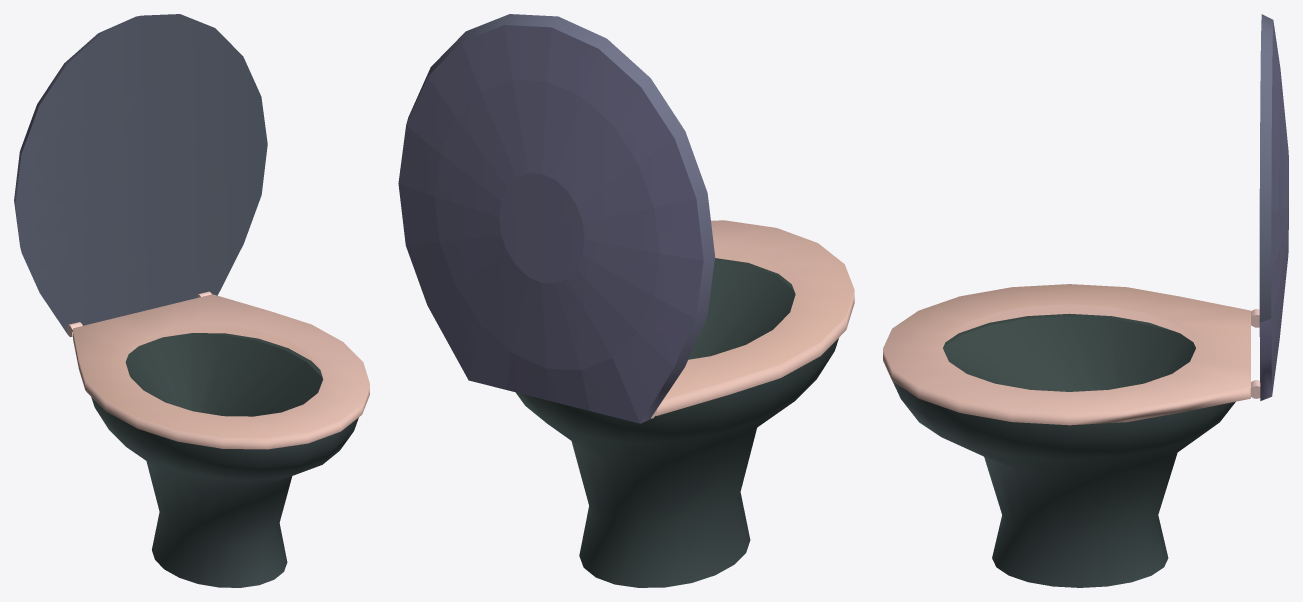
The picture shows the model from 3 angles, left to right: view 1: azimuth 30°, elevation 25°; view 2: azimuth 150°, elevation 25°; view 3: azimuth 270°, elevation 25°; orthographic projection. The views are drawn at different scales.
Visible parts, largest first — view 1: toilet.001, toilet; view 2: toilet.001, toilet; view 3: toilet, toilet.001.
Part boxes in pixels (x1,y1,x2,y2): toilet.001: [14, 14, 267, 333]; toilet: [67, 291, 369, 587]; toilet.001: [398, 14, 714, 423]; toilet: [516, 220, 854, 587]; toilet: [883, 284, 1260, 587]; toilet.001: [1259, 14, 1288, 400].
Size of the model in its own units: 261 by 330 by 478.
Materials: 1 (1 with a texture image).
